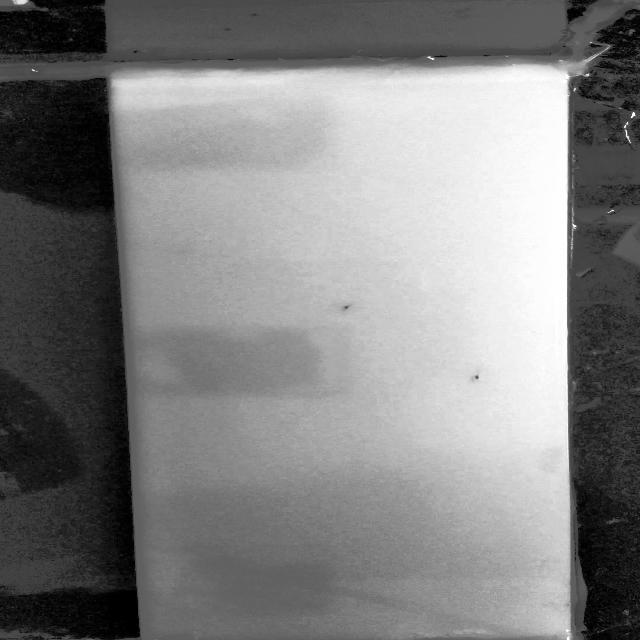shrimp: (336, 302, 358, 318), (466, 369, 488, 384)
